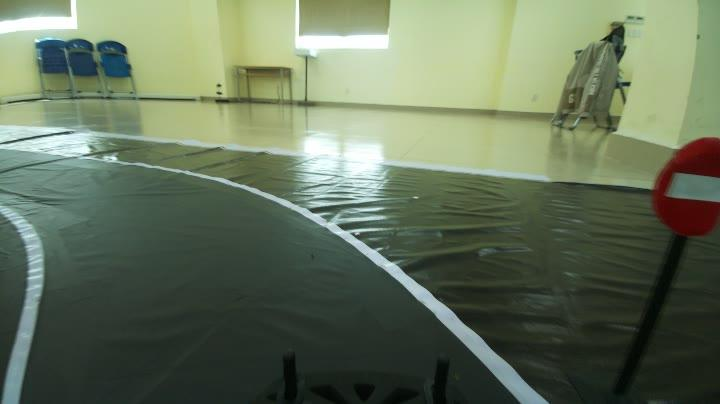no_entry: (653, 130, 720, 228)
